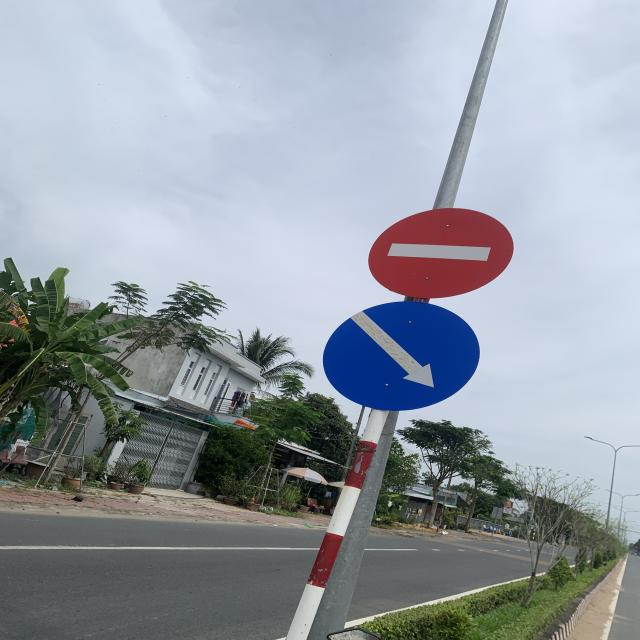Cam_Di_Nguoc_Chieu: (366, 208, 514, 298)
Chi_Huong_Di_Phai: (324, 300, 480, 412)
